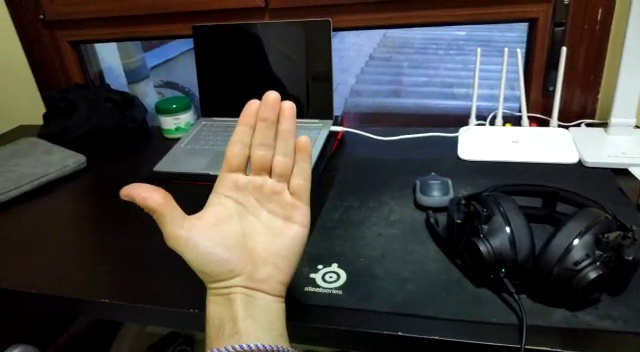Palm: (116, 88, 313, 316)
